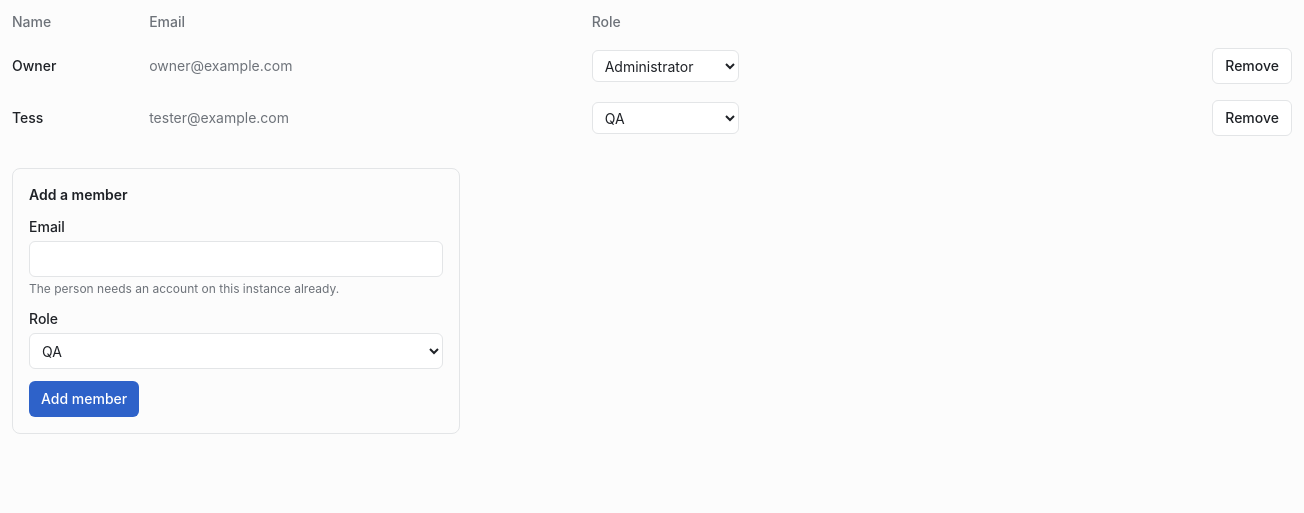
Test: MembersPage › shows the reason the server refused
This screenshot has width=1304, height=513.
Click the button "Remove" in the row of "owner@example.com".
click(1252, 66)  # box [1212, 48, 1292, 84]
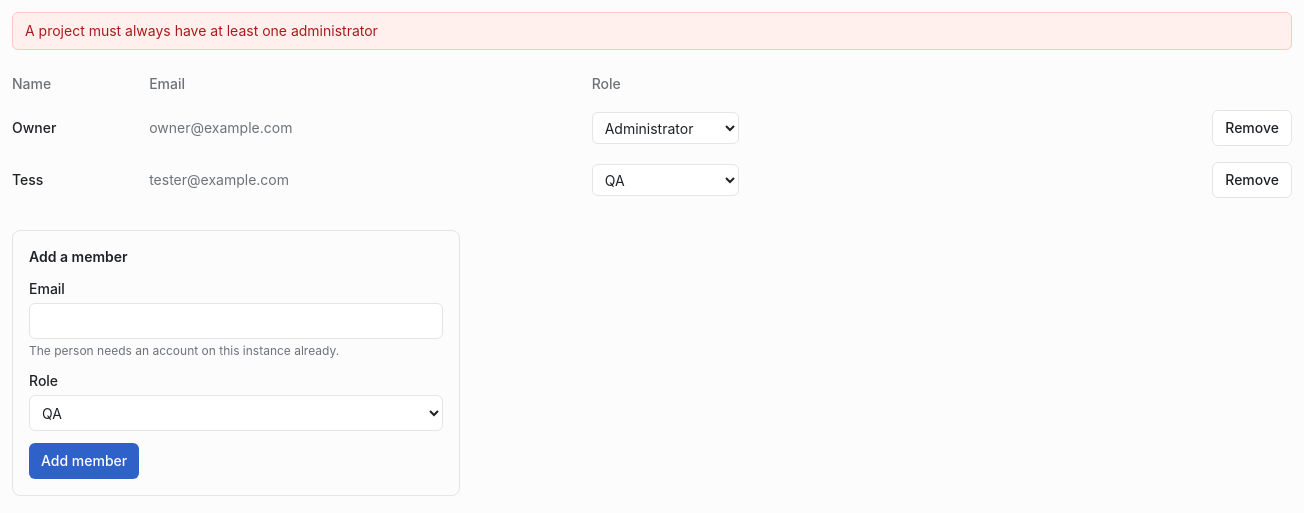
expect the message reads "A project must always have at least one administrator": met, box [25, 22, 378, 39]
